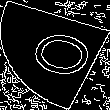O_E: (14, 26, 96, 84)
